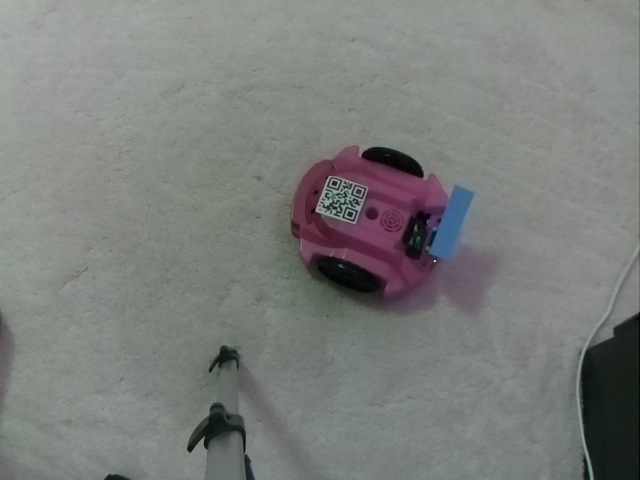chassis: (283, 143, 471, 303)
qr: (317, 171, 371, 226)
